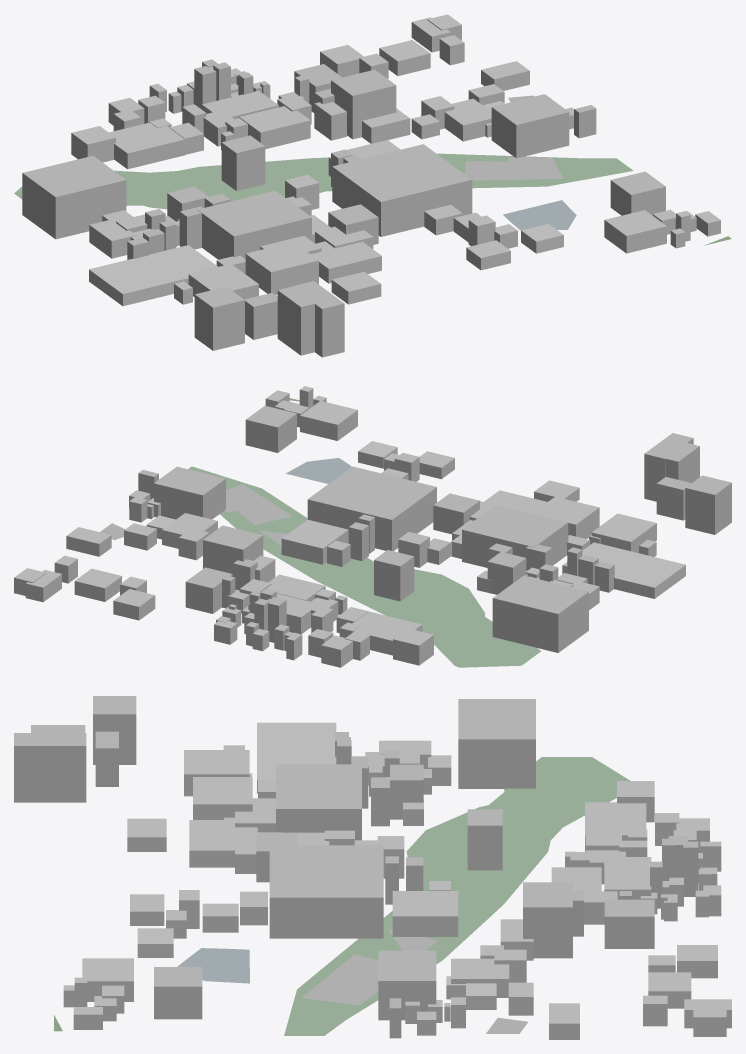
The model's file is 137_84_mid.glb.
The picture shows the model from 3 angles, top to bottom: view 1: azimuth 30°, elevation 25°; view 2: azimuth 150°, elevation 25°; view 3: azimuth 270°, elevation 25°; orthographic projection. The views are drawn at different scales.
Bounding box in the file's own units: 545 × 50.25 × 544.
